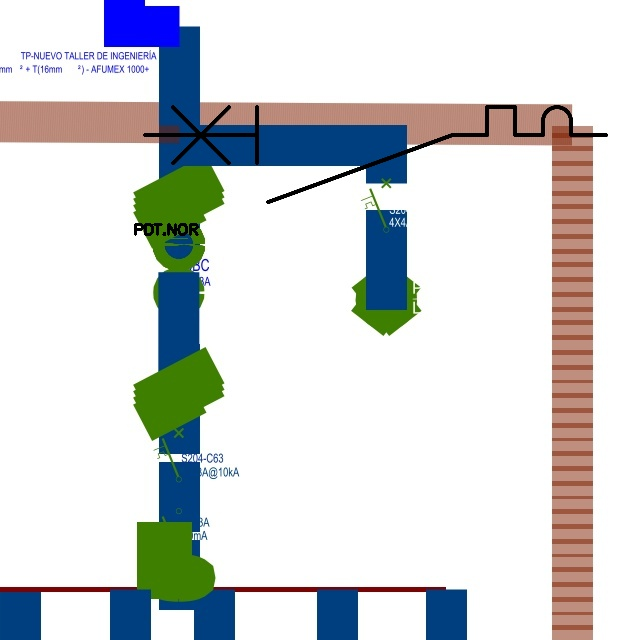interruptor_termomagnetico: (133, 95, 618, 213)
